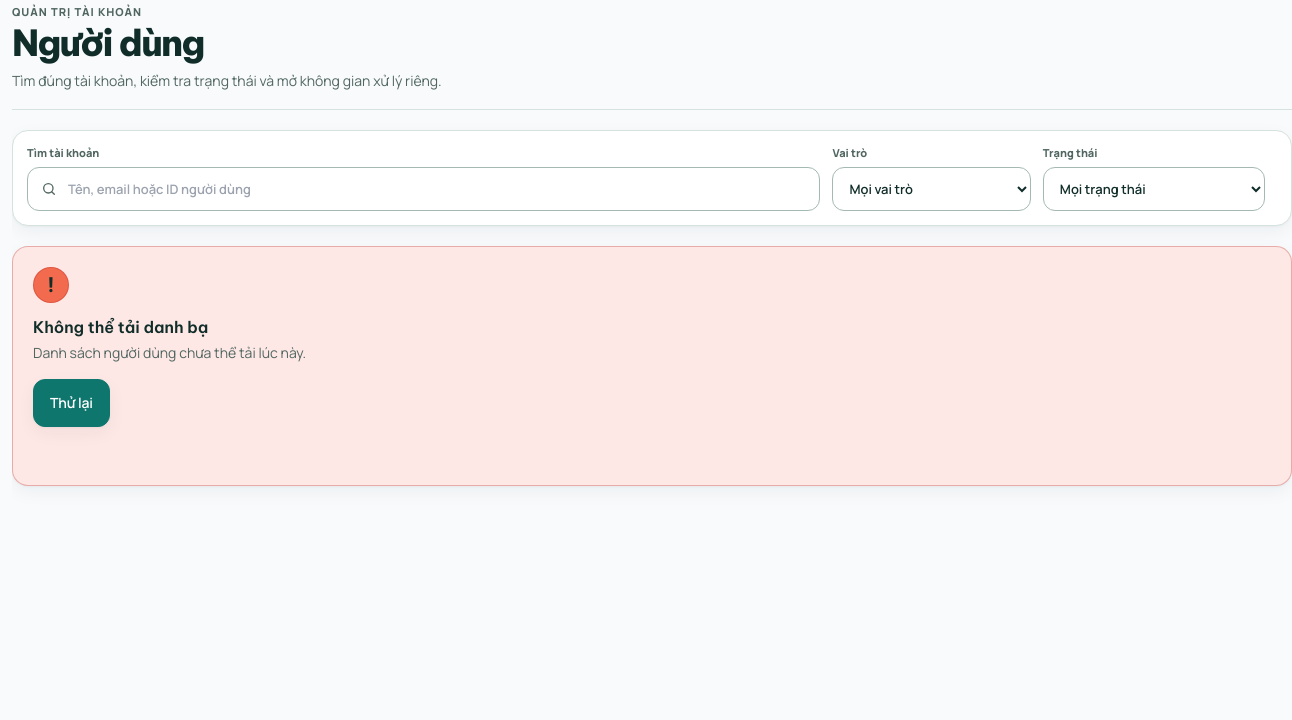
Scenario: AdminUsersPage › shows an API error and retries the directory request
The width and height of the screenshot is (1292, 720).
Expected: the message shows "Danh sách người dùng chưa thể tải", [33,343,306,362]
Click the button "Thử lại": (71, 403) [33,379,110,427]
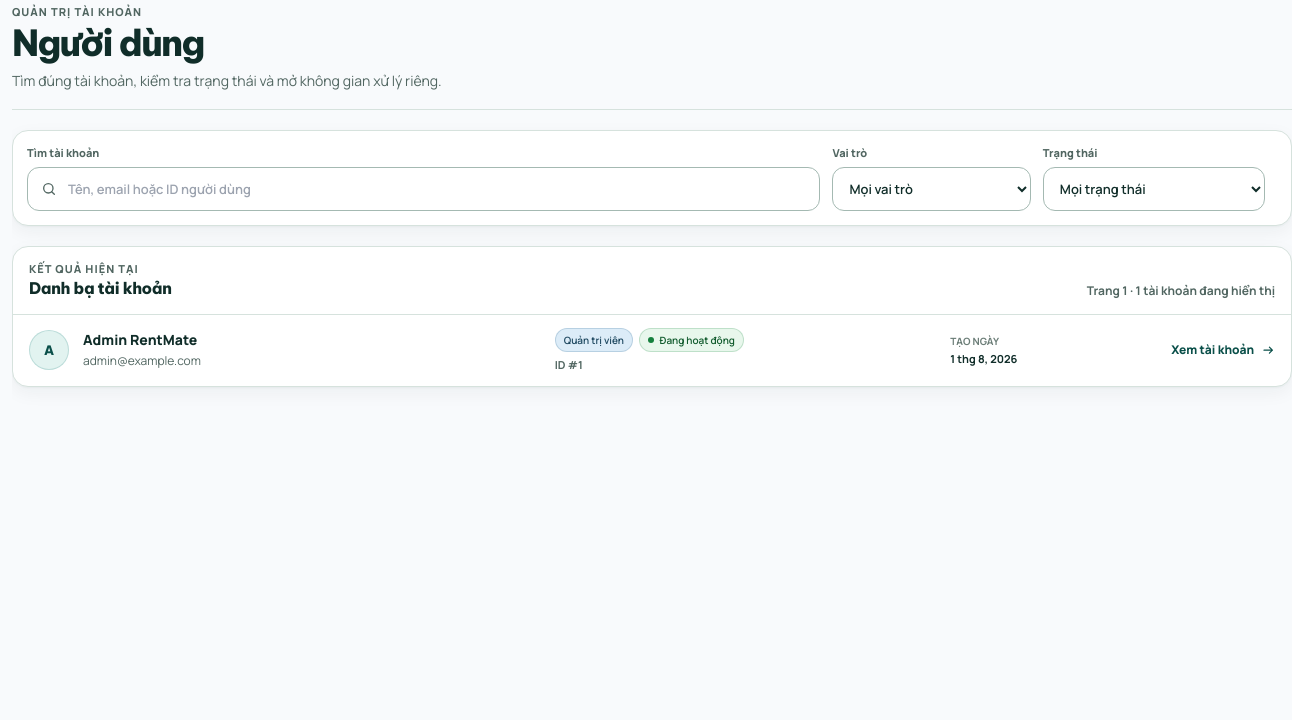
Result: the text "admin@example.com" is shown at [83,352,201,369]
